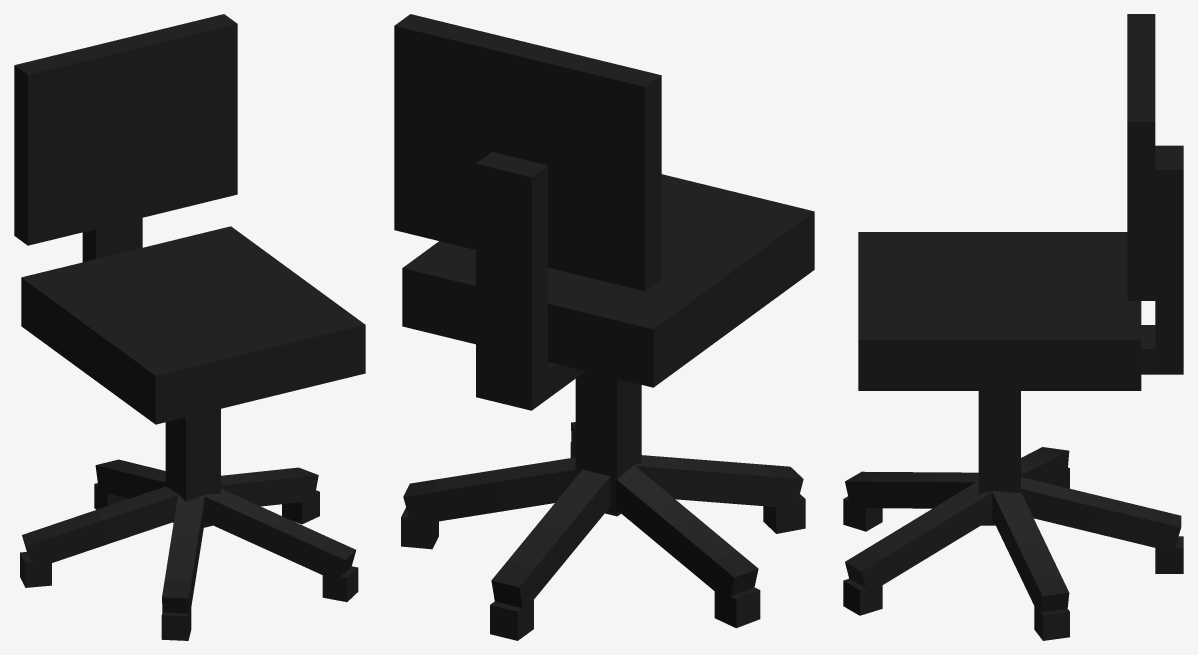
File: office_chair.obj
3 renders of one model, left to right at view 1: azimuth 30°, elevation 25°; view 2: azimuth 150°, elevation 25°; view 3: azimuth 270°, elevation 25°, orthographic. The views are drawn at different scales.
Visible parts, largest first — view 1: Dossier$C, Seat$C, Assise, Pied4, Pied2, Metal2, Pied5, Dossier, Pied3, Pied1, métal, Roulette4 (+3 smaller); view 2: Dossier, Seat$C, métal, Assise, Pied2, Pied3, Pied1, Metal2, Pied5, Dossier$C, Roulette2, Roulette1 (+3 smaller); view 3: Seat$C, Assise, métal, Pied4, Pied1, Pied3, Metal2, Dossier$C, Dossier, Pied5, Pied2, Roulette4 (+4 smaller).
Part boxes in pixels (x1,y1,x2,y2): Dossier$C: (21, 19, 237, 245); Seat$C: (21, 226, 365, 399); Assise: (21, 302, 365, 424); Pied4: (203, 488, 356, 582); Pied2: (22, 486, 179, 562); Metal2: (165, 409, 220, 527); Pied5: (162, 494, 204, 613); Dossier: (14, 14, 230, 240); Pied3: (221, 467, 318, 506); Pied1: (95, 459, 165, 498); métal: (82, 218, 142, 262); Roulette4: (322, 566, 358, 601); Dossier: (394, 20, 653, 291); Seat$C: (402, 174, 814, 358); métal: (476, 152, 547, 410); Assise: (402, 241, 814, 387); Pied2: (615, 465, 758, 602); Pied3: (403, 457, 577, 525); Pied1: (491, 469, 610, 611); Metal2: (575, 371, 641, 516); Pied5: (633, 455, 803, 508); Dossier$C: (403, 14, 661, 284); Roulette2: (714, 587, 760, 628); Roulette1: (490, 600, 533, 640); Seat$C: (858, 232, 1141, 365); Assise: (858, 365, 1141, 390); métal: (1155, 145, 1183, 374); Pied4: (845, 481, 993, 587); Pied1: (1021, 477, 1181, 548); Pied3: (992, 491, 1069, 612); Metal2: (978, 391, 1020, 525); Dossier$C: (1127, 14, 1141, 300); Dossier: (1141, 14, 1155, 300); Pied5: (845, 471, 978, 508); Pied2: (1021, 447, 1069, 484); Roulette4: (843, 579, 882, 615).
Bounding box in the file's own units: 0.7898 × 1.22 × 0.7523.
